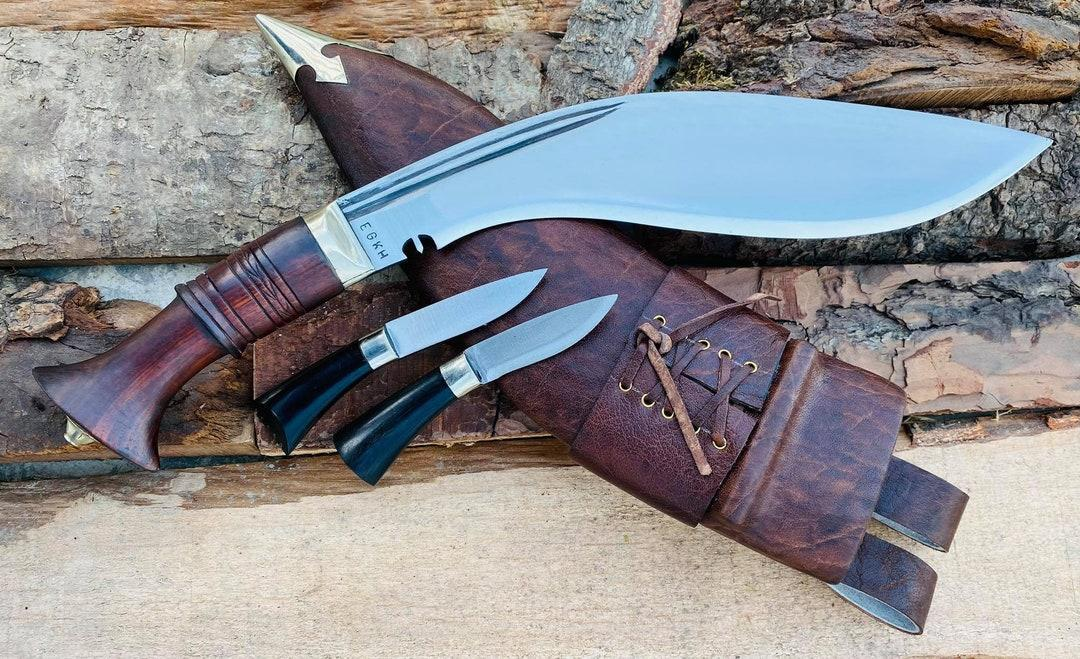faca: (256, 269, 546, 452), (335, 295, 617, 482)
facao: (34, 93, 1051, 468)
